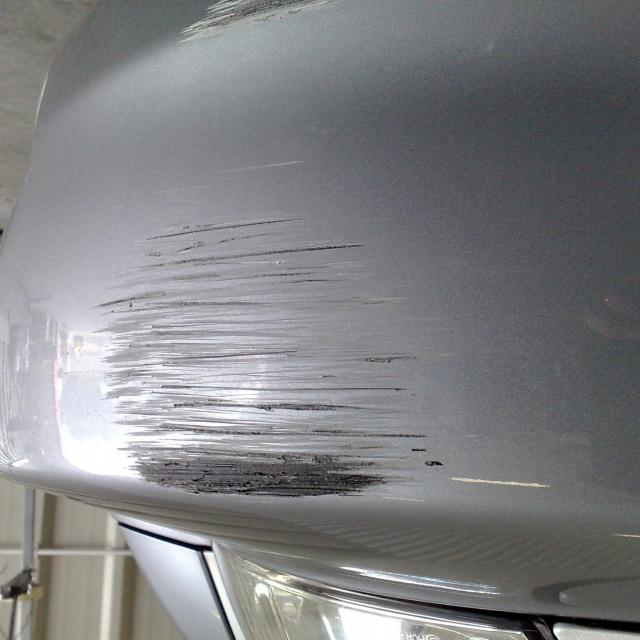scratch: (77, 222, 468, 502)
